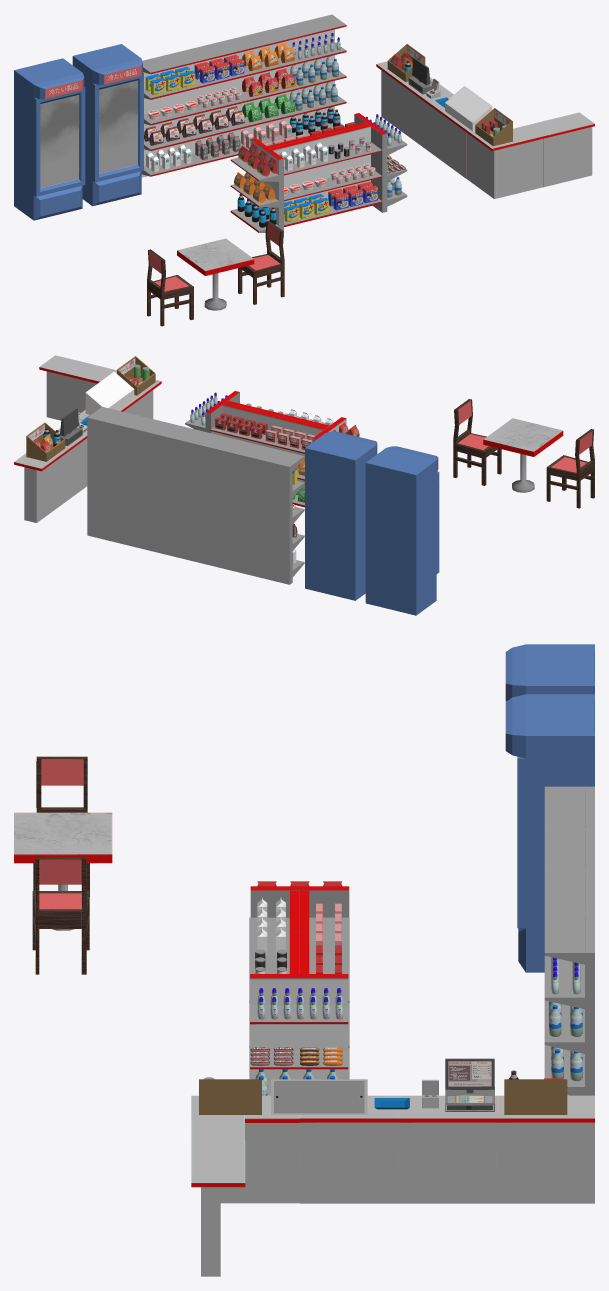
Rendered from Market.fbx.
3 renders of one model, top to bottom at view 1: azimuth 30°, elevation 25°; view 2: azimuth 150°, elevation 25°; view 3: azimuth 270°, elevation 25°, orthographic. The views are drawn at different scales.
Parts seen in each view (by area): view 1: Lamen_Cup, Snack2, Marble_Drink, Candy1, Candy, Table, Chair2, Chair; view 2: Lamen_Cup, Candy1, Snack2, Candy, Marble_Drink, Table, Chair2, Chair; view 3: Snack2, Marble_Drink, Lamen_Cup, Candy, Table, Candy1, Chair, Chair2.
Boxes of the visible parts, x1,y1,x2,y2 form: Lamen_Cup: [141, 14, 346, 177]; Snack2: [376, 44, 594, 198]; Marble_Drink: [230, 113, 407, 236]; Candy1: [14, 58, 85, 220]; Candy: [72, 44, 143, 206]; Table: [177, 238, 254, 310]; Chair2: [147, 249, 193, 326]; Chair: [238, 220, 284, 304]; Lamen_Cup: [87, 406, 304, 584]; Candy1: [365, 446, 439, 615]; Snack2: [14, 355, 161, 522]; Candy: [305, 431, 377, 600]; Marble_Drink: [185, 391, 359, 507]; Table: [483, 418, 563, 492]; Chair2: [546, 429, 594, 508]; Chair: [453, 399, 501, 485]; Snack2: [191, 1058, 594, 1276]; Marble_Drink: [249, 881, 349, 1095]; Lamen_Cup: [544, 786, 594, 1095]; Candy: [505, 694, 594, 972]; Table: [14, 812, 112, 930]; Candy1: [505, 644, 594, 701]; Chair: [32, 857, 89, 974]; Chair2: [33, 756, 89, 896].
Bounding box in the file's own units: 97.6 × 26.54 × 59.
